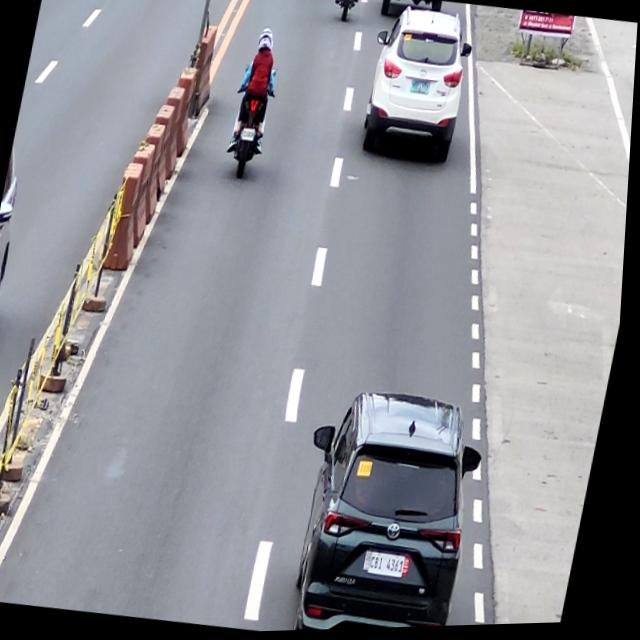Car: (282, 382, 499, 633), (357, 4, 479, 171)
License-Plate: (374, 555, 413, 583), (411, 80, 433, 98), (242, 128, 258, 145)
Motorcycle: (224, 63, 280, 182)
